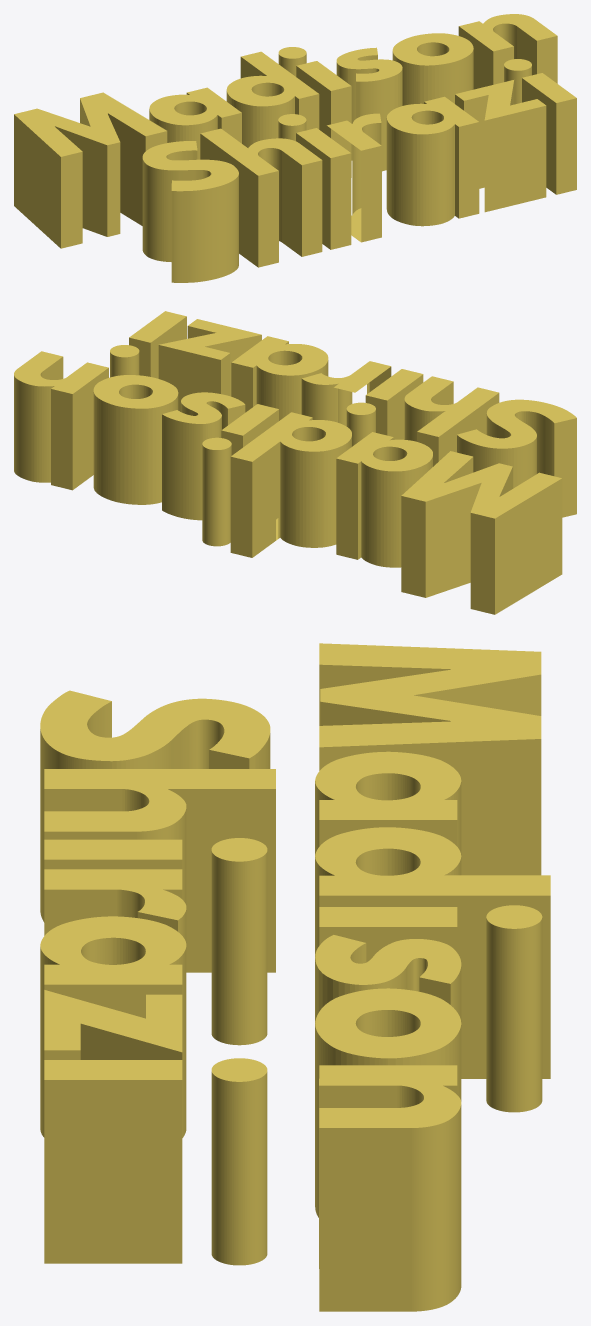
The model's file is name.dae.
3 views of the same model, one above another, from view 1: azimuth 30°, elevation 25°; view 2: azimuth 150°, elevation 25°; view 3: azimuth 270°, elevation 25° (orthographic). The views are drawn at different scales.
Visible parts, largest first — view 1: name; view 2: name; view 3: name.
Part boxes in pixels (<box>): name: <box>14,14,576,282</box>; name: <box>14,311,576,614</box>; name: <box>40,643,550,1311</box>.
Bounding box in the file's own units: 1.2 × 0.5336 × 0.2118.
